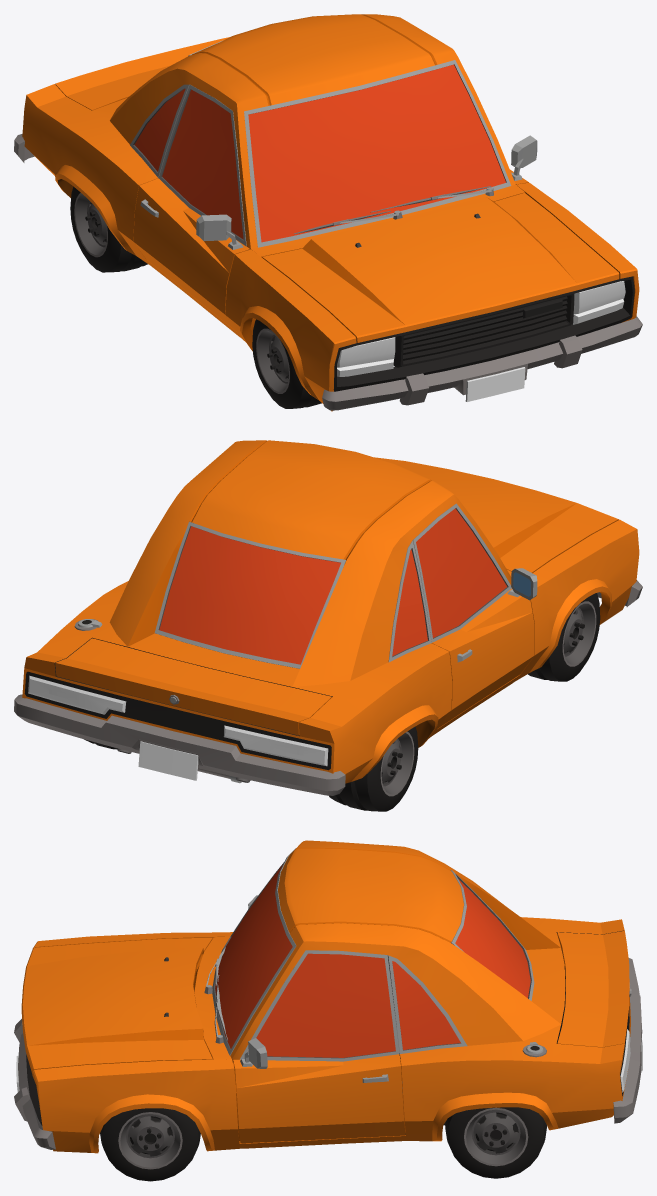
File: car3.fbx
3 renders of one model, top to bottom at view 1: azimuth 30°, elevation 25°; view 2: azimuth 150°, elevation 25°; view 3: azimuth 270°, elevation 25°, orthographic. The views are drawn at different scales.
Parts seen in each view (by area): view 1: Body.001, Bonet.001, Doors_R, Grill_F, Fender_FR.001, Bumper_F.001, BootLid, Wheel_FR.001, Wheel_RR.001, Fender_FL.001, HeadlightGlass_FR, HeadlightGlass_FL (+2 smaller); view 2: Body.001, Doors_R, BootLid, Bumper_R.001, Bonet.001, Fender_FR.001, Wheel_RR.001, Wheel_FR.001, HeadlightGlass_RR, HeadlightGlass_RL; view 3: Body.001, Doors_L, Bonet.001, Fender_FL.001, BootLid, Wheel_RL.001, Wheel_FL.001, Bumper_R.001, Bumper_F.001, Fender_FR.001, WindshieldWipers.001.
Part boxes in pixels (<box>): Body.001: <box>22,14,525,338</box>; Bonet.001: <box>262,193,619,342</box>; Doors_R: <box>133,84,250,331</box>; Grill_F: <box>333,276,634,390</box>; Fender_FR.001: <box>225,249,356,411</box>; Bumper_F.001: <box>322,316,642,410</box>; BootLid: <box>55,37,229,110</box>; Wheel_FR.001: <box>252,319,343,408</box>; Wheel_RR.001: <box>70,186,147,272</box>; Fender_FL.001: <box>516,182,639,322</box>; HeadlightGlass_FR: <box>337,337,395,376</box>; HeadlightGlass_FL: <box>573,281,625,324</box>; Body.001: <box>22,440,519,783</box>; Doors_R: <box>412,503,537,727</box>; BootLid: <box>55,638,331,735</box>; Bumper_R.001: <box>14,694,345,795</box>; Bonet.001: <box>374,457,618,573</box>; Fender_FR.001: <box>516,519,639,680</box>; Wheel_RR.001: <box>329,726,418,811</box>; Wheel_FR.001: <box>528,593,600,681</box>; HeadlightGlass_RR: <box>223,725,328,766</box>; HeadlightGlass_RL: <box>28,675,126,714</box>; Body.001: <box>193,840,630,1148</box>; Doors_L: <box>233,950,405,1143</box>; Bonet.001: <box>21,937,212,1073</box>; Fender_FL.001: <box>32,1059,239,1153</box>; BootLid: <box>557,930,631,1056</box>; Wheel_RL.001: <box>445,1107,546,1178</box>; Wheel_FL.001: <box>100,1108,200,1181</box>; Bumper_R.001: <box>613,958,642,1123</box>; Bumper_F.001: <box>14,1019,55,1149</box>; Fender_FR.001: <box>33,932,232,947</box>; WindshieldWipers.001: <box>204,947,227,1043</box>.
Size of the model in its own units: 135 by 94.29 by 229.
